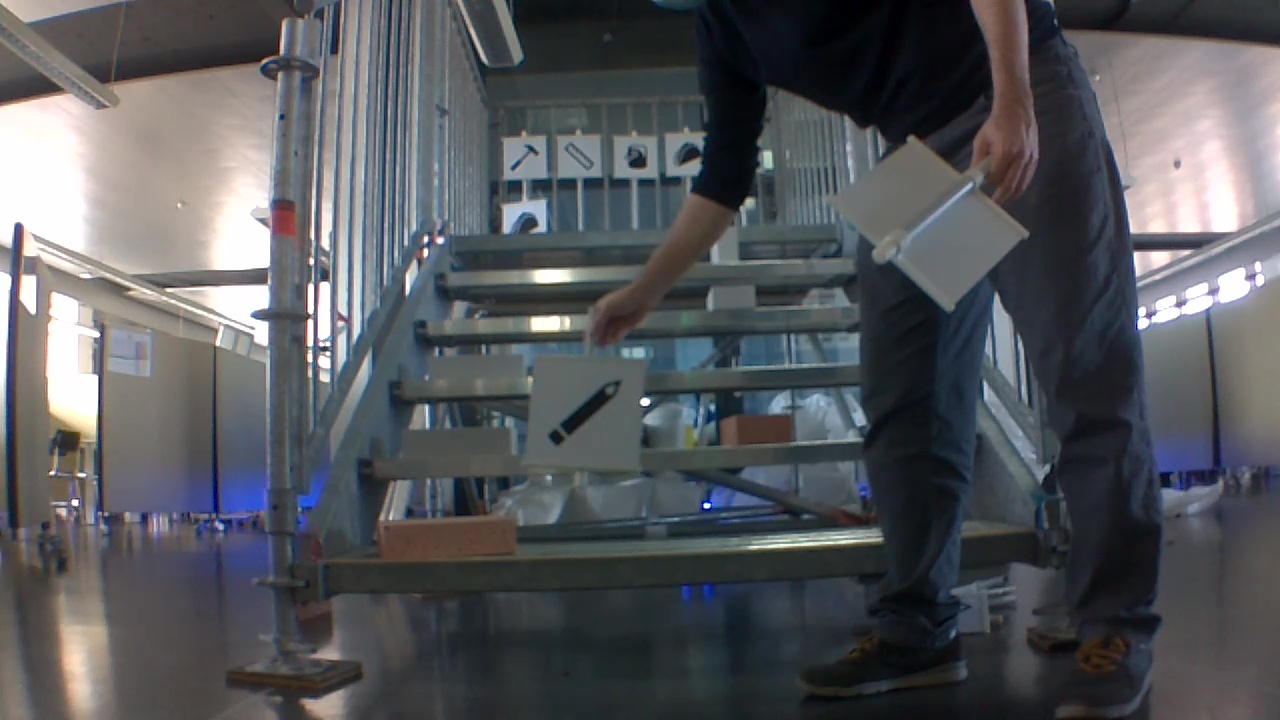brick: (389, 512, 519, 553), (401, 425, 519, 454), (427, 352, 532, 383), (721, 414, 800, 440), (711, 227, 742, 267), (711, 281, 756, 307)
bucket: (623, 143, 650, 173)
edge: (319, 538, 885, 597)
hammer: (509, 140, 542, 175)
pencil: (547, 373, 627, 446)
ruler: (564, 140, 595, 175)
taco: (505, 205, 545, 233), (670, 142, 708, 169)
